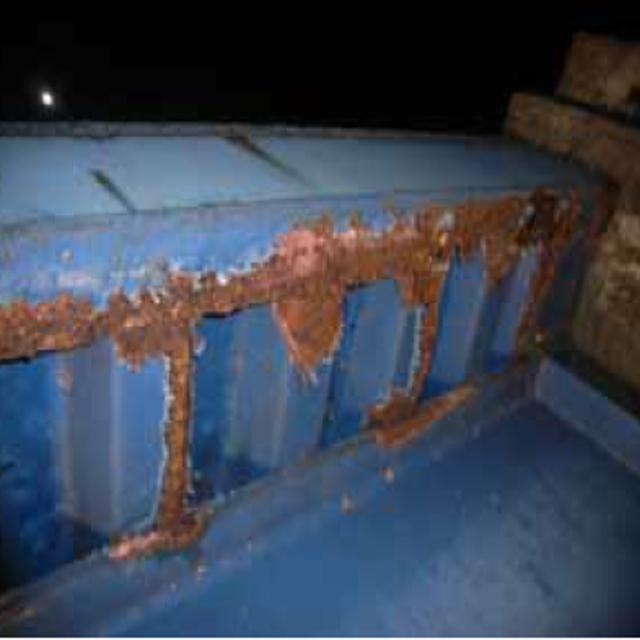corrosion: (11, 193, 638, 374), (137, 394, 220, 567), (354, 391, 492, 440)
